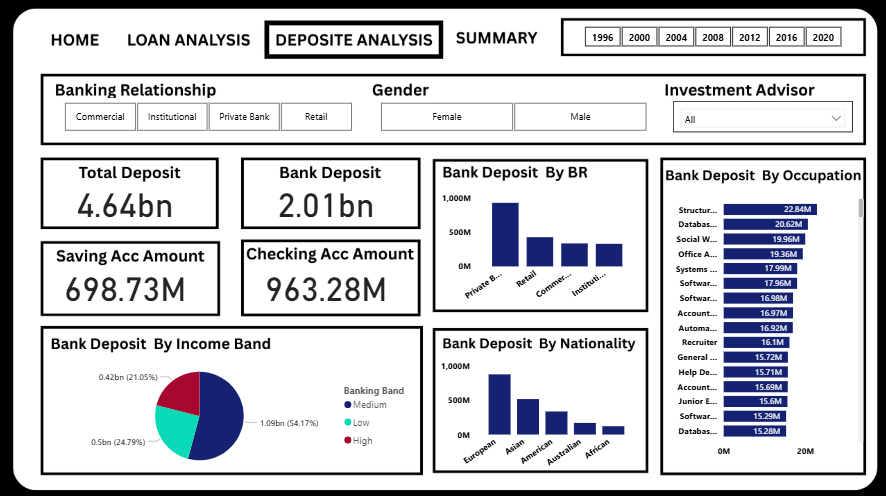

This screenshot's page, from the dashboard's own definition file:
{"tool":"powerbi","page":{"name":"Deposit Analysis","canvas":[1280,720],"ordinal":2},"visuals":[{"type":"card","fields":{"Values":["Banking_Clients.Total_deposit"]},"box":[52.1,208.6,259,164.8],"z":0},{"type":"card","fields":{"Values":["Sum(Banking_Clients.Bank Deposits)"]},"box":[341.4,208.6,259,164.8],"z":1000},{"type":"card","fields":{"Values":["Sum(Banking_Clients.Checking Accounts)"]},"box":[341.4,329.7,259,164.8],"z":2000},{"type":"card","fields":{"Values":["Sum(Banking_Clients.Saving Accounts)"]},"box":[52.1,329.7,259,164.8],"z":3000},{"type":"pieChart","fields":{"Category":["Banking_Clients.Banking Band"],"Y":["Sum(Banking_Clients.Bank Deposits)"]},"box":[75.7,514.7,528.1,173.2],"z":4000},{"type":"columnChart","fields":{"Category":["Banking Relationship.Banking Relationship"],"Y":["Sum(Banking_Clients.Bank Deposits)"]},"box":[631.6,272.1,292.3,173],"z":5000},{"type":"columnChart","fields":{"Y":["Sum(Banking_Clients.Bank Deposits)"],"Category":["Banking_Clients.Nationality"]},"box":[630.7,514.7,292.7,173.2],"z":6000},{"type":"barChart","fields":{"Category":["Banking_Clients.Occupation"],"Y":["Sum(Banking_Clients.Bank Deposits)"]},"box":[957.1,274.2,292.7,395.3],"z":7000},{"type":"slicer","fields":{"Values":["Banking_Clients.Joined Bank.Variation.Date Hierarchy.Year"]},"box":[817.5,33.6,418.8,42],"z":8000},{"type":"slicer","fields":{"Values":["Banking Relationship.Banking Relationship"]},"box":[69,143,462.5,53.8],"z":9000},{"type":"slicer","fields":{"Values":["Gender.Gender"]},"box":[524.8,143,432.3,53.8],"z":10000},{"type":"slicer","fields":{"Values":["Investment Advisor.Investment Advisor"]},"box":[970.5,146.3,259,45.4],"z":11000},{"type":"actionButton","box":[169.9,21.9,201.8,65.6],"z":12000},{"type":"actionButton","box":[52.1,21.9,117.7,65.6],"z":13000},{"type":"actionButton","box":[647.6,21.9,129.5,65.6],"z":14000}]}

Visuals, with their boxes in screenshot pixels (x1, y1, x2, y2), scaled from the page's 1280x720 canvas onto the 886x496 screenshot:
card - Banking_Clients.Total_deposit: bbox=(36, 144, 215, 257)
card - Sum(Banking_Clients.Bank Deposits): bbox=(236, 144, 416, 257)
card - Sum(Banking_Clients.Checking Accounts): bbox=(236, 227, 416, 341)
card - Sum(Banking_Clients.Saving Accounts): bbox=(36, 227, 215, 341)
pieChart - Banking_Clients.Banking Band x Sum(Banking_Clients.Bank Deposits): bbox=(52, 355, 418, 474)
columnChart - Banking Relationship.Banking Relationship x Sum(Banking_Clients.Bank Deposits): bbox=(437, 187, 640, 307)
columnChart - Sum(Banking_Clients.Bank Deposits) x Banking_Clients.Nationality: bbox=(437, 355, 639, 474)
barChart - Banking_Clients.Occupation x Sum(Banking_Clients.Bank Deposits): bbox=(662, 189, 865, 461)
slicer - Banking_Clients.Joined Bank.Variation.Date Hierarchy.Year: bbox=(566, 23, 856, 52)
slicer - Banking Relationship.Banking Relationship: bbox=(48, 99, 368, 136)
slicer - Gender.Gender: bbox=(363, 99, 662, 136)
slicer - Investment Advisor.Investment Advisor: bbox=(672, 101, 851, 132)
actionButton: bbox=(118, 15, 257, 60)
actionButton: bbox=(36, 15, 118, 60)
actionButton: bbox=(448, 15, 538, 60)
